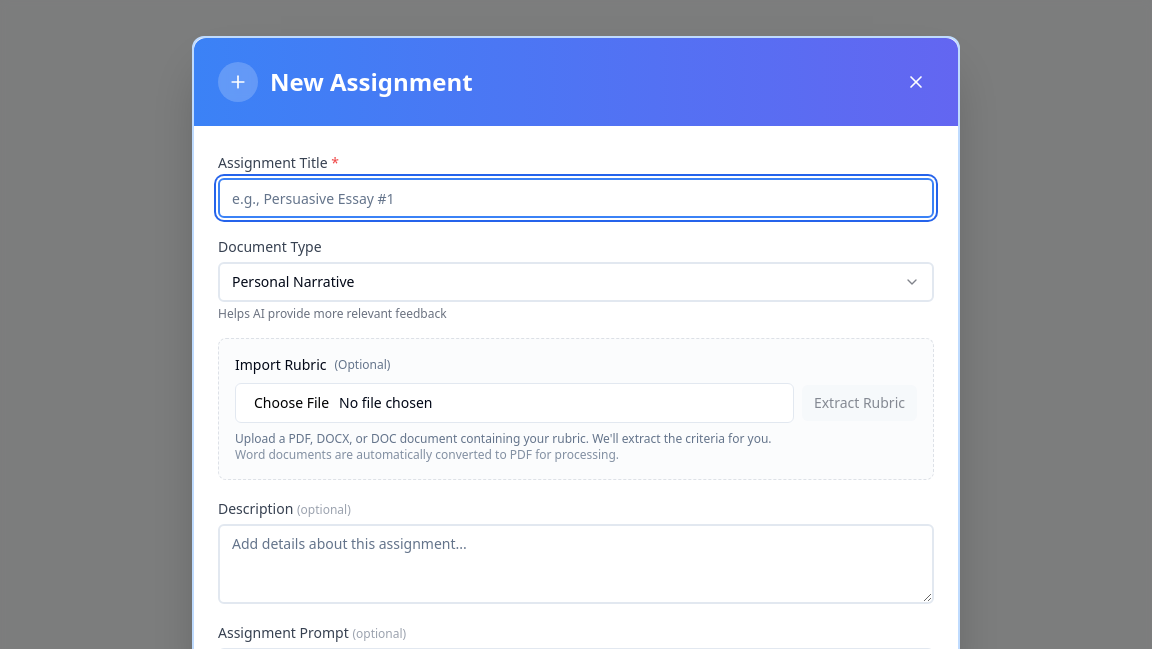
Test: CreateAssignmentModal Component › Form Validation › should enable submit button when title is filled
Type "Test Assignment" into the field labelled "Assignment Title *". click: (576, 198)
box: [218,178,934,218]
(page scrolled)
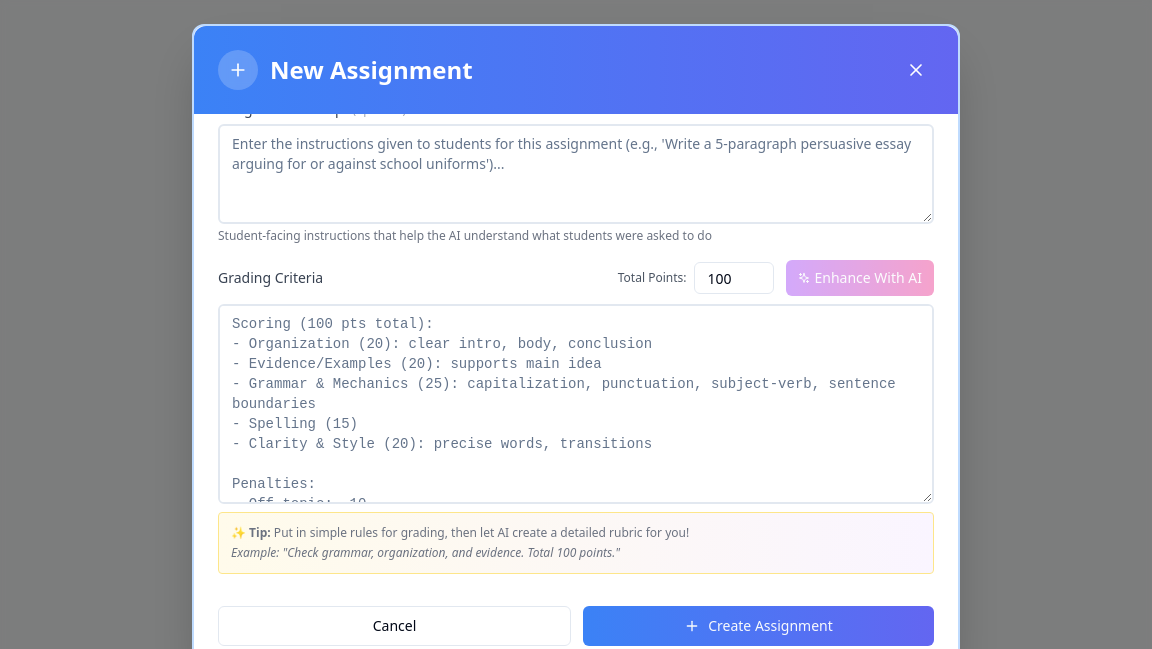
Expected: the button "Create Assignment" is enabled, [583,606,934,646]
